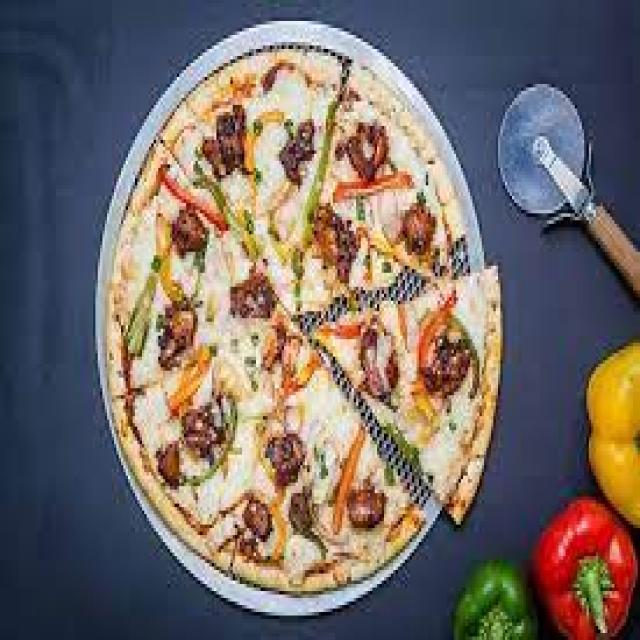피자: (104, 37, 507, 618)
